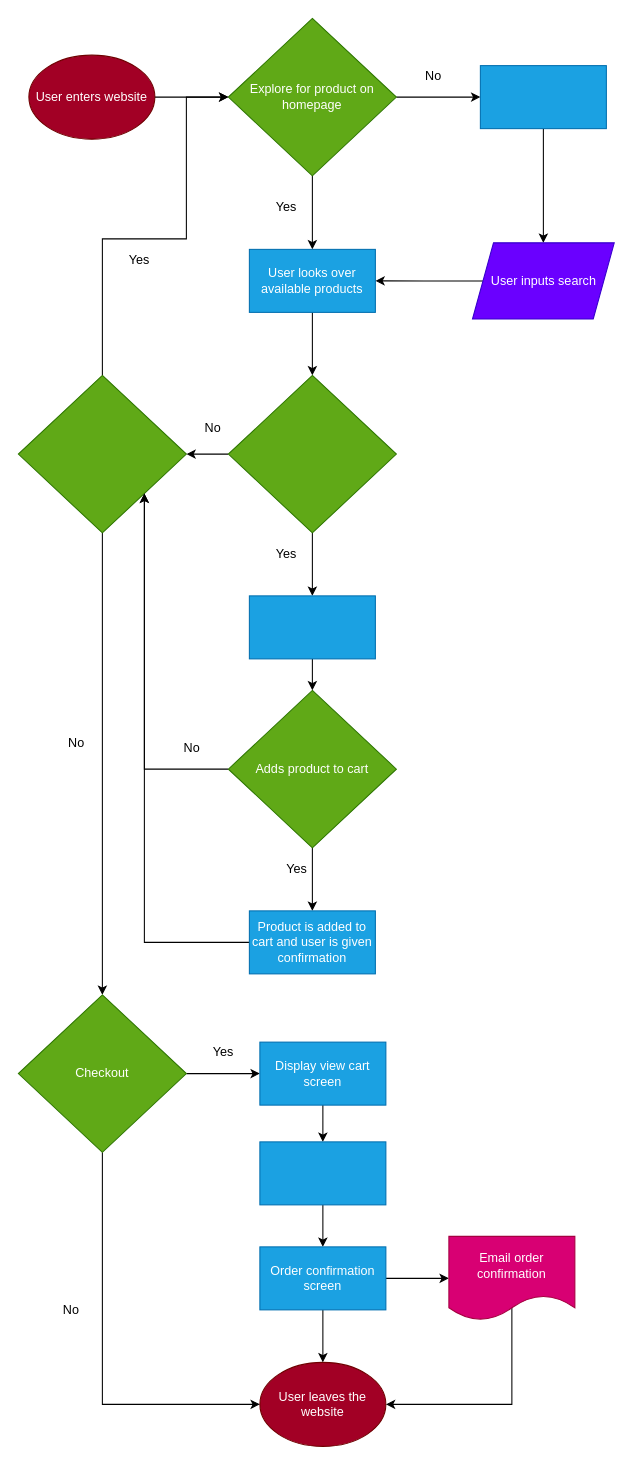
This 633x1465 diagram has some shape labels left out. The centre of each missing label's shape, as x and y in pixels:
Product page opens: [311,627]
User continues shopping: [101,453]
User searches for a product: [542,97]
User selects a specific product: [311,453]
View payment screen: [322,1173]
